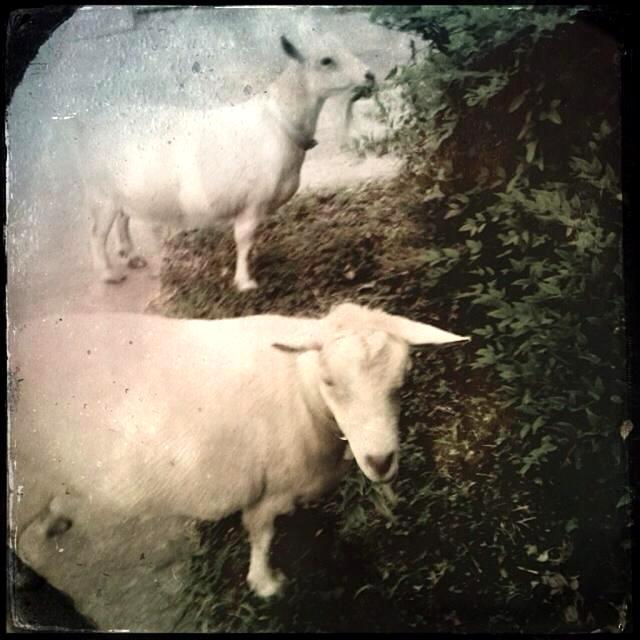sheep: (9, 320, 470, 583), (87, 37, 360, 287)
